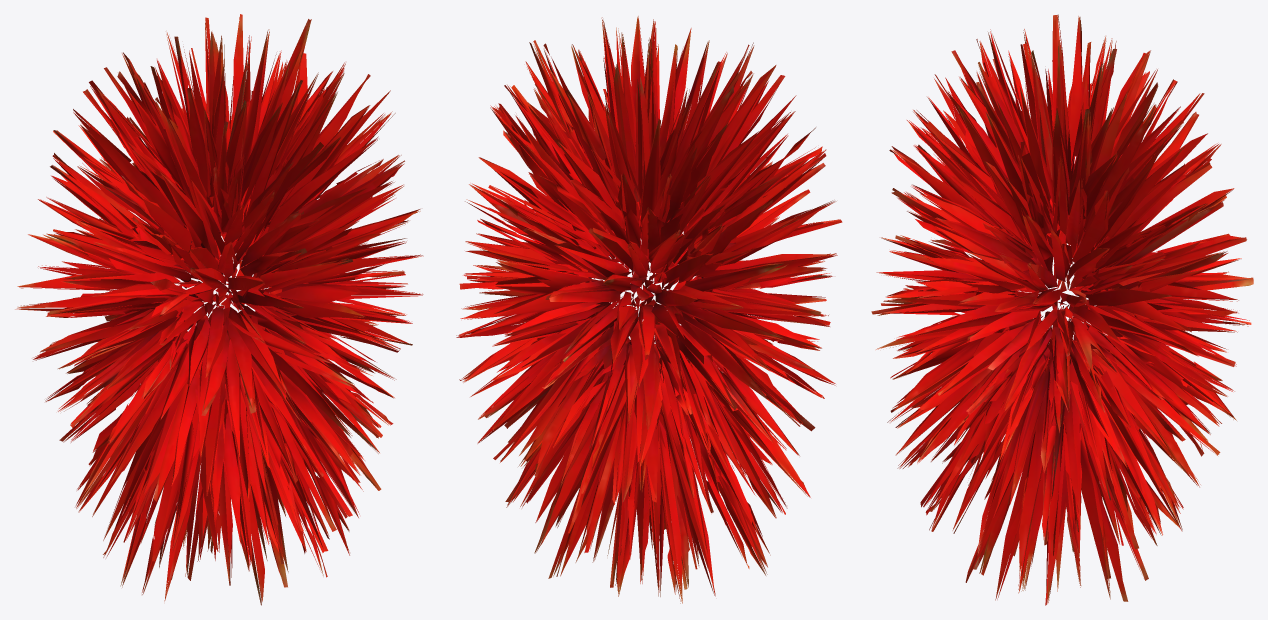
File: cushioning.glb
3 views of the same model, side by side, from view 1: azimuth 30°, elevation 25°; view 2: azimuth 150°, elevation 25°; view 3: azimuth 270°, elevation 25° (orthographic).
Visible parts, largest first — view 1: node_0; view 2: node_0; view 3: node_0.
Part boxes in pixels (left/top/right/bottom): node_0: left=15, top=14, right=423, bottom=605; node_0: left=456, top=16, right=842, bottom=603; node_0: left=871, top=14, right=1253, bottom=605.
Size of the model in its own units: 0.7555 by 1.14 by 0.7403.
Materials: 1 (1 with a texture image).
